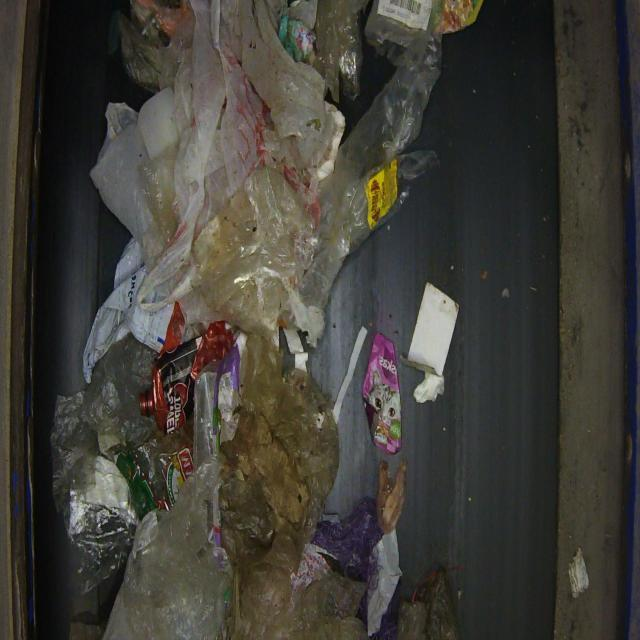other-trash: (49, 0, 482, 638)
plastic-waste: (89, 15, 376, 342)
